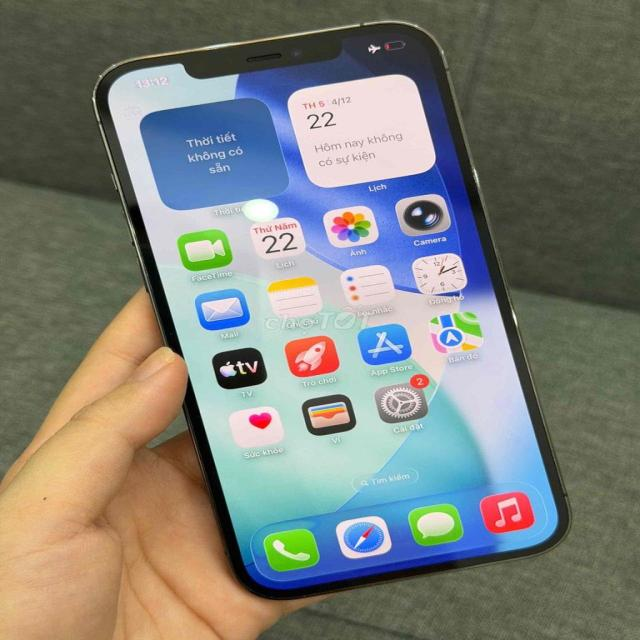gen_12_13: (87, 21, 572, 604)
